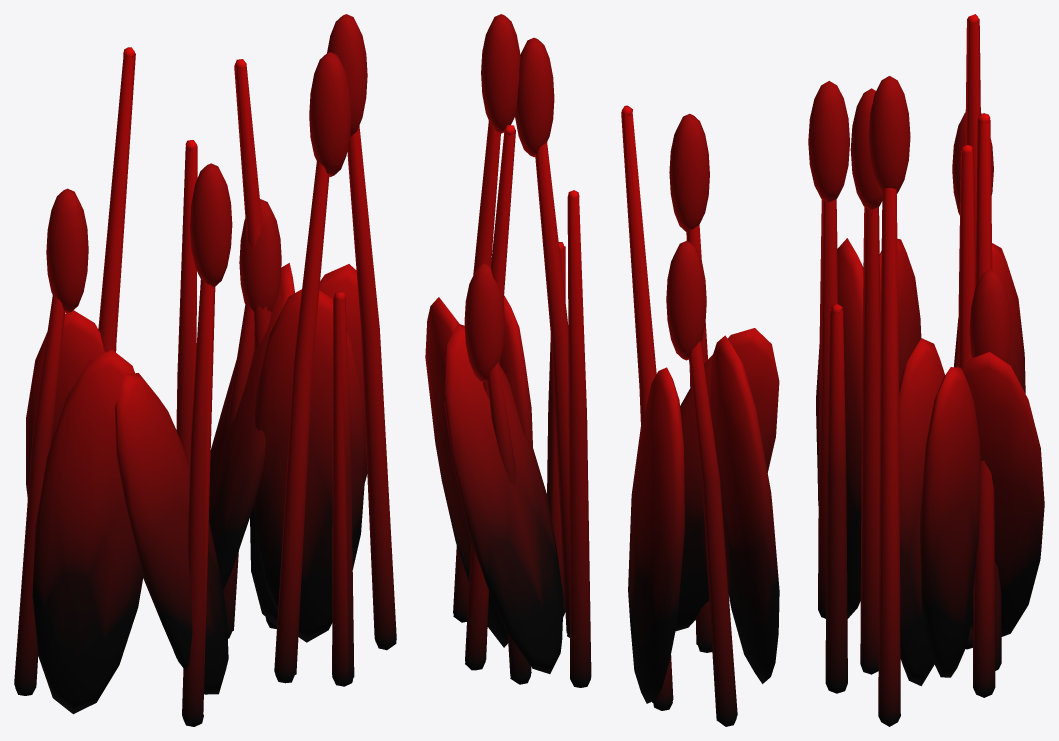
File: bg-jungle-b.glb
The picture shows the model from 3 angles, left to right: view 1: azimuth 30°, elevation 25°; view 2: azimuth 150°, elevation 25°; view 3: azimuth 270°, elevation 25°; orthographic projection. The views are drawn at different scales.
Parts seen in each view (by area): view 1: reedStems, cattails; view 2: reedStems, cattails; view 3: reedStems, cattails.
Part boxes in pixels (box(x1,y1,x2,y2)): reedStems: box(14, 47, 396, 726); cattails: box(46, 14, 367, 313); reedStems: box(425, 105, 779, 726); cattails: box(464, 14, 709, 382); reedStems: box(816, 14, 1044, 726); cattails: box(808, 76, 1011, 363).
Size of the model in its own units: 2.5 by 4.33 by 1.47.
